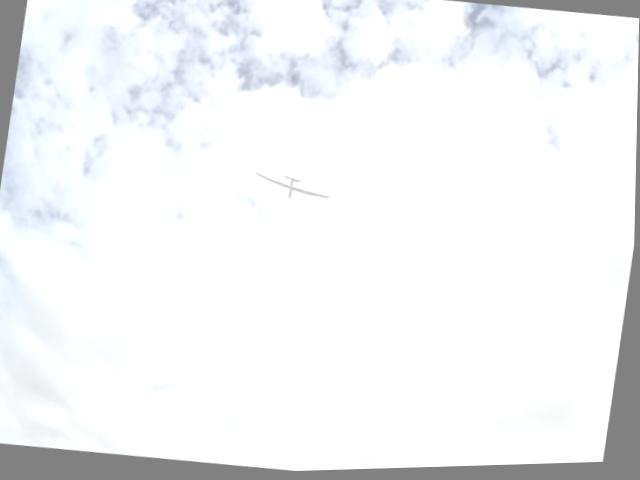uav: (246, 154, 342, 220)
